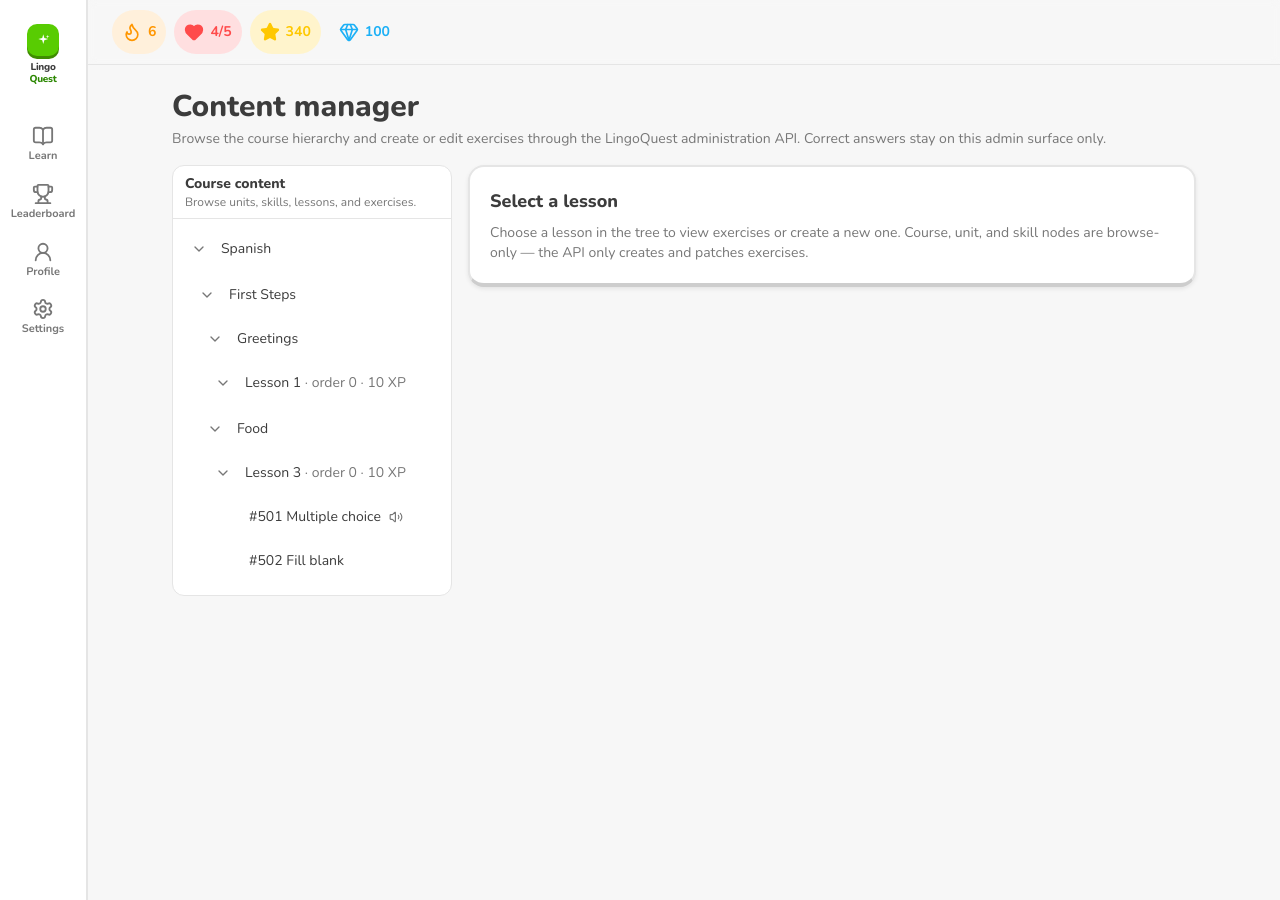
Test: Phase 11B content manager › preserves draft on active-attempt 409 without success toast
Expected: the text "Spanish" is shown, [221,239,271,259]
Click the list item with aria-label "Exercise 501, Multiple choice" at (326,516), box [249,507,403,526]
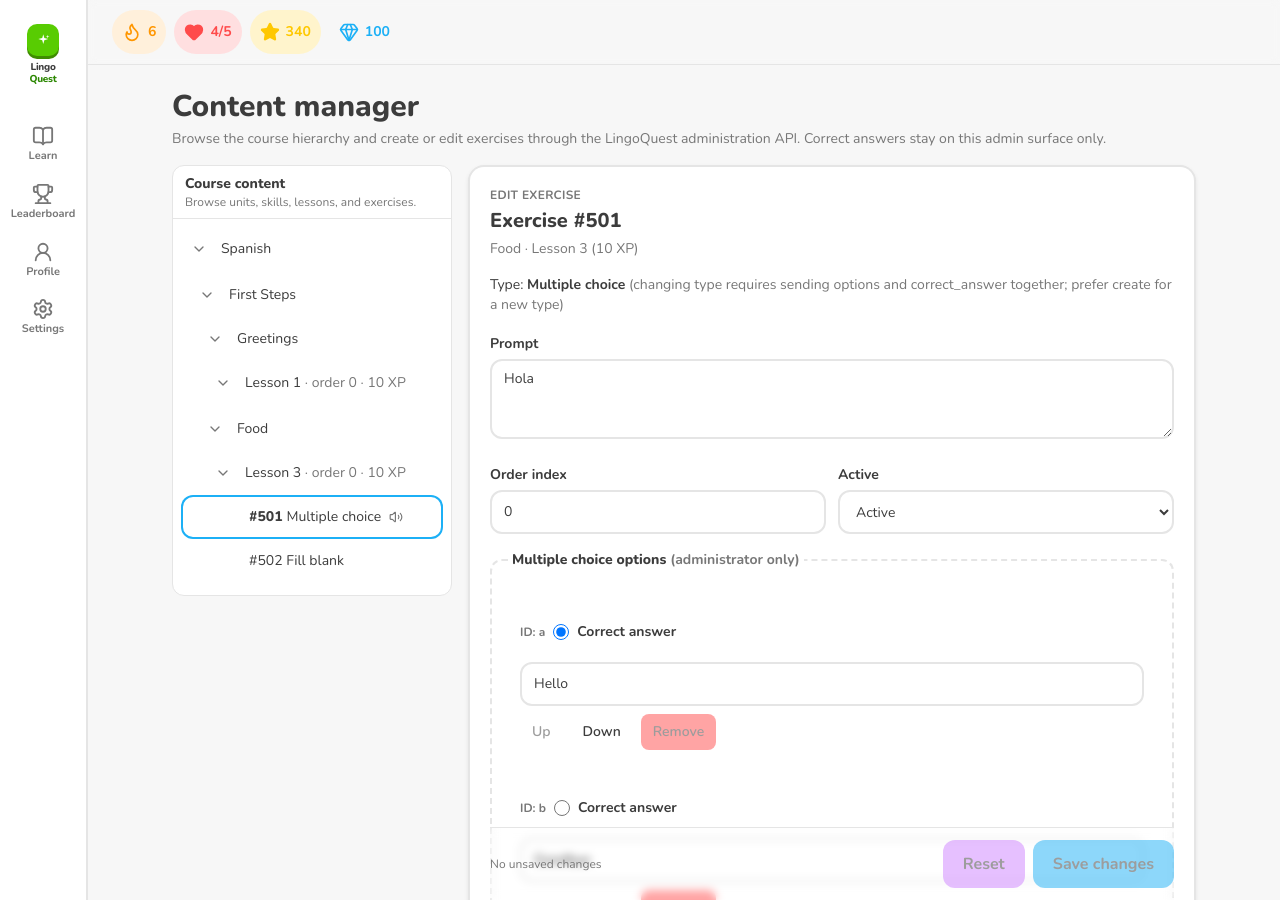
Replace the text in the text box labelled "Prompt" with "Should not apply" at (832,399), box [490,359,1174,439]
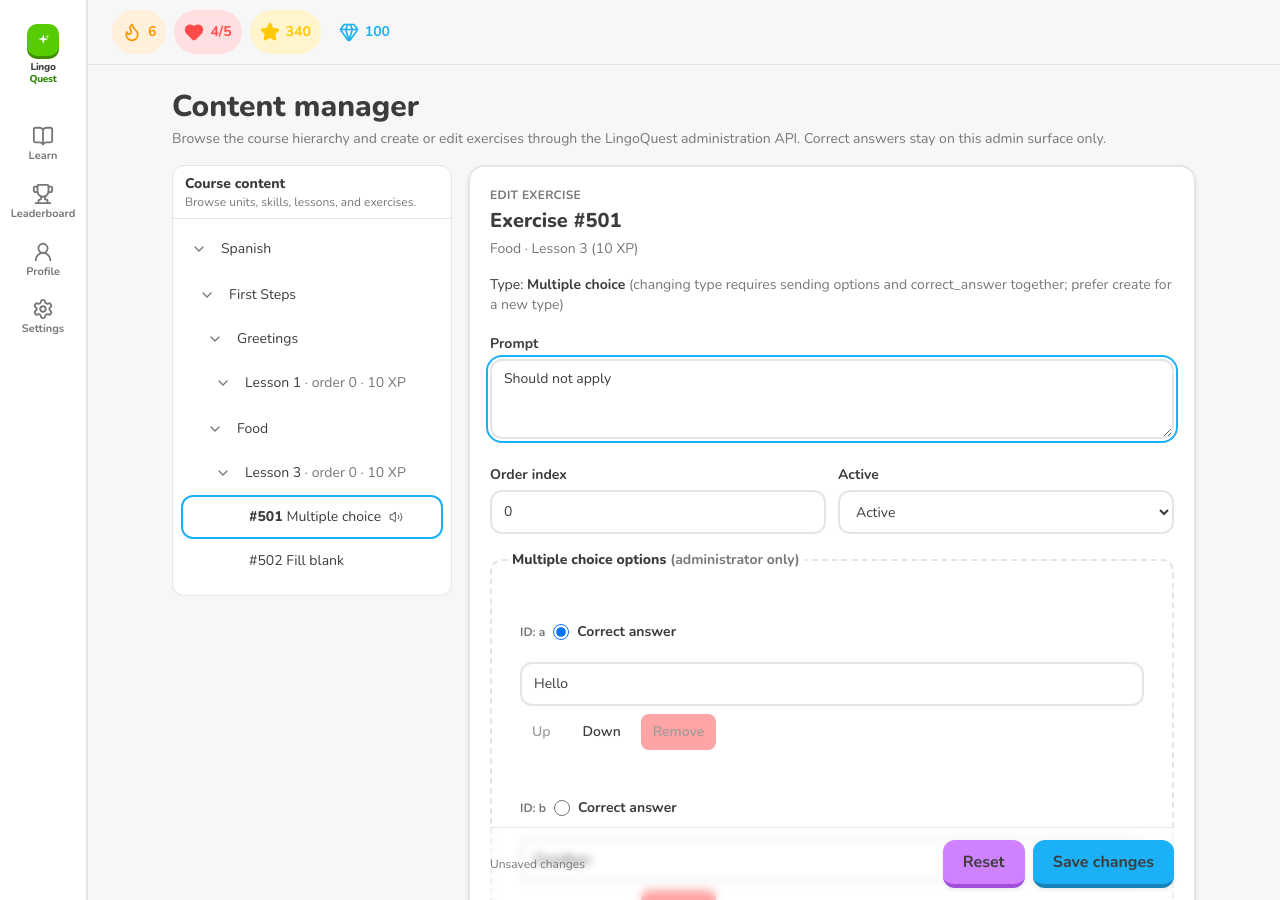
Click the button "Save changes" at (1103,864), box [1033,840,1174,888]
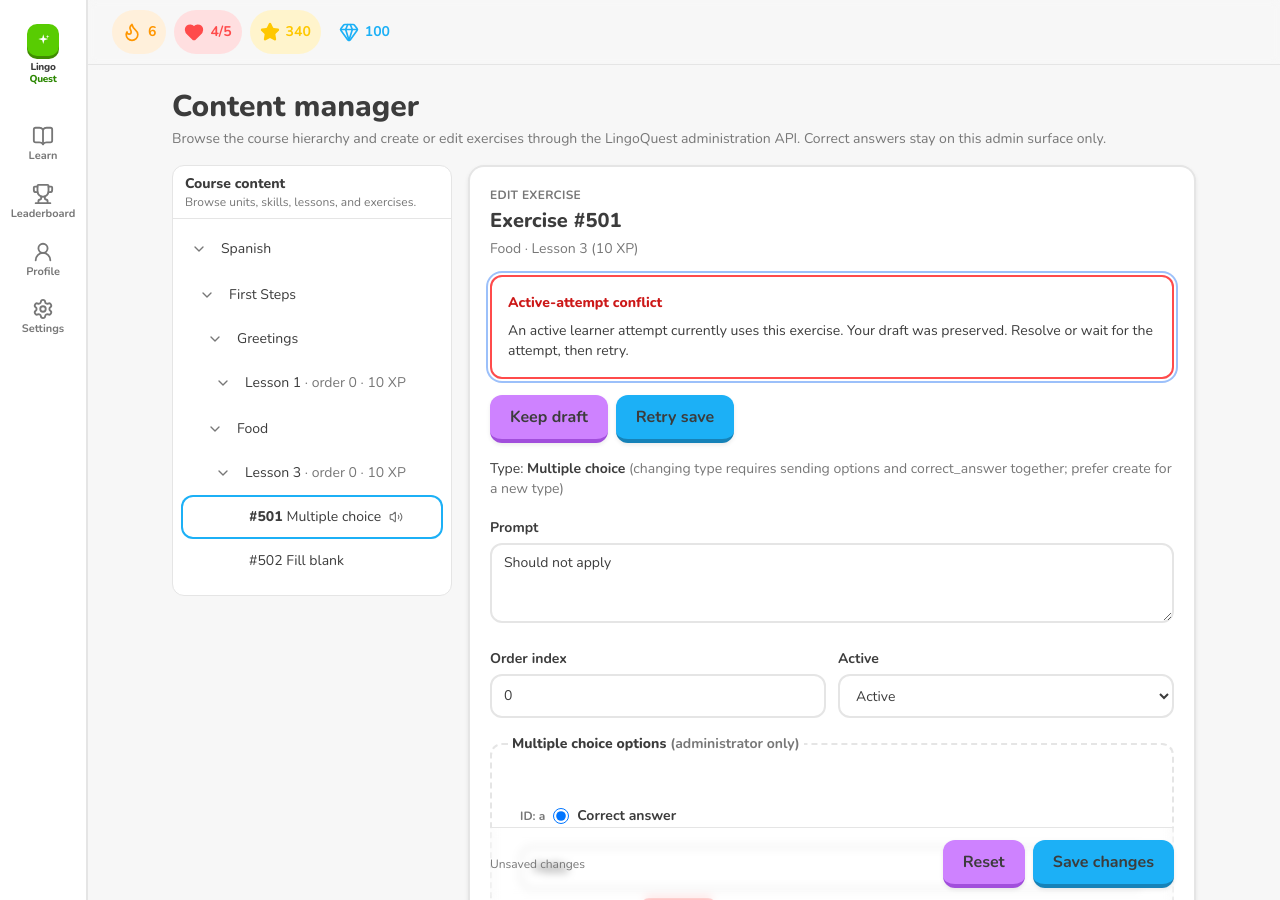
Expected: the heading "Active-attempt conflict" is shown, [508,293,662,312]
